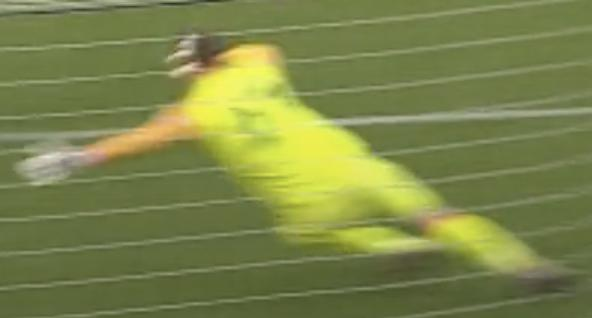goalkeeper: (12, 21, 590, 308)
